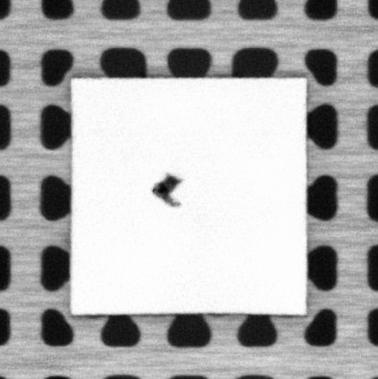DIE_INK: (151, 175, 185, 208)
